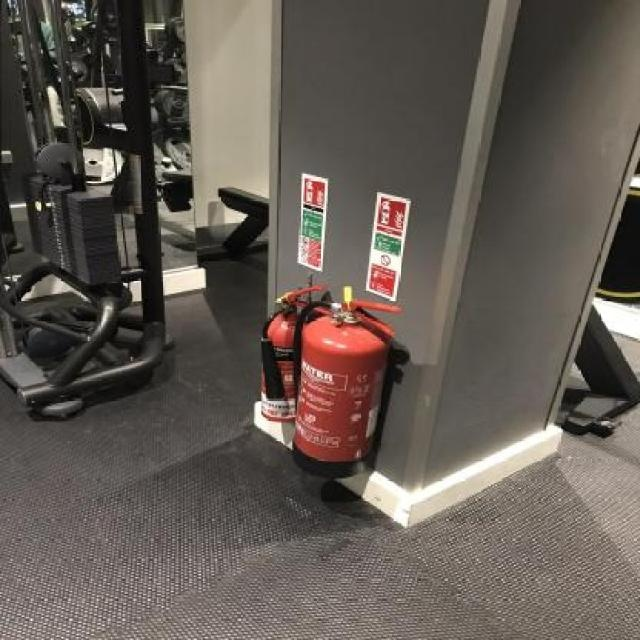fire extinguisher: (291, 297, 400, 477), (262, 287, 329, 419)
